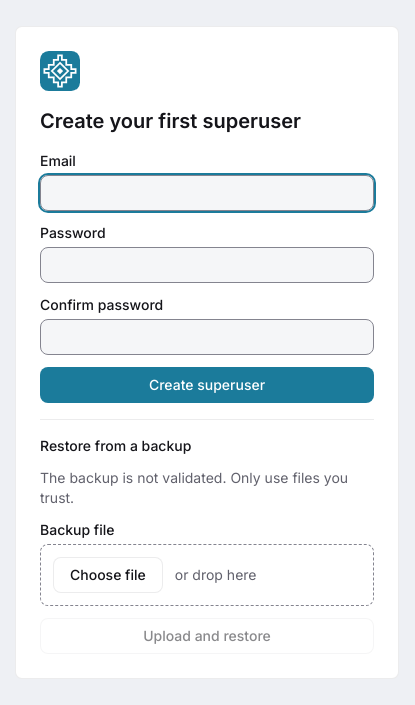
Scenario: installer shows create validation errors next to the inputs
Type "admin@example.com" into the field labelled "Email" at [207, 192], box [40,174,374,210]
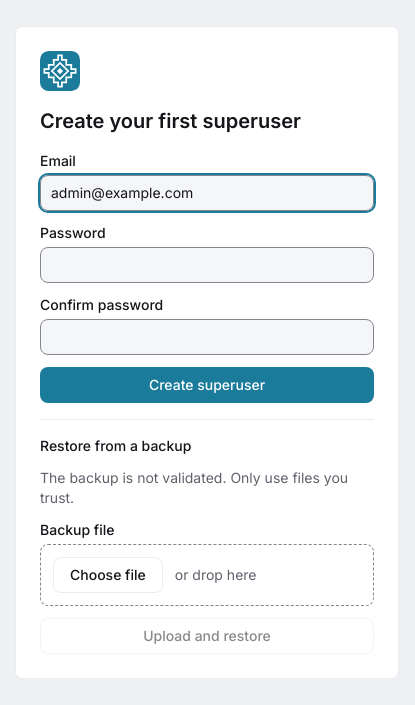
Type "x" into the password field labelled "Password" at [207, 264], box [40,246,374,282]
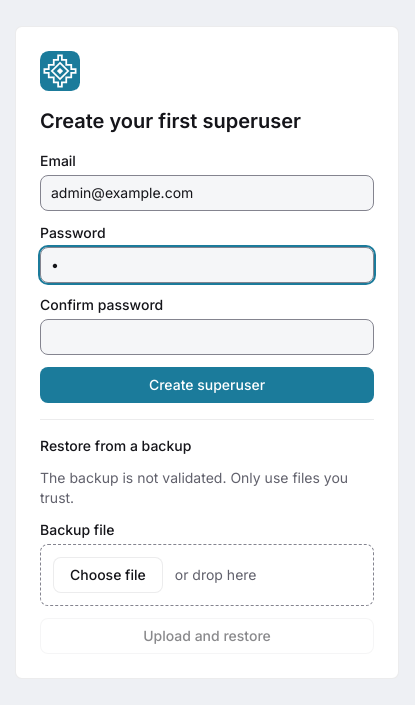
Type "x" into the password field labelled "Confirm password" at [207, 336], box [40,318,374,354]
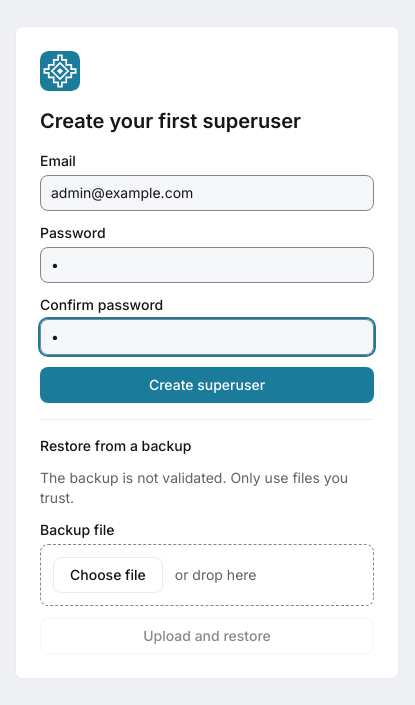
Click the button "Create superuser" at [207, 384], box [40,366,374,402]
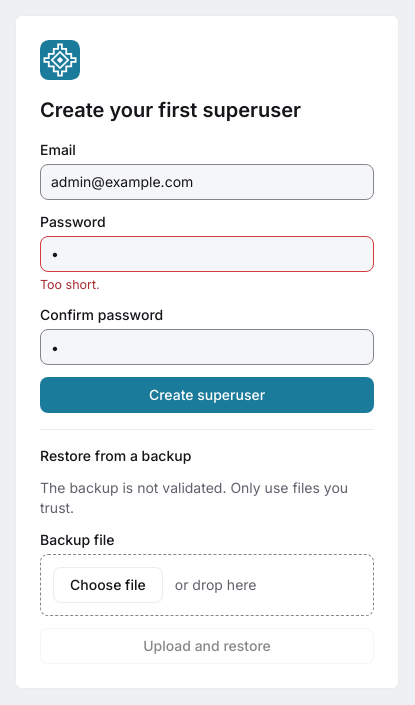
Now the text "Too short." is shown, box [40,277,100,292]
